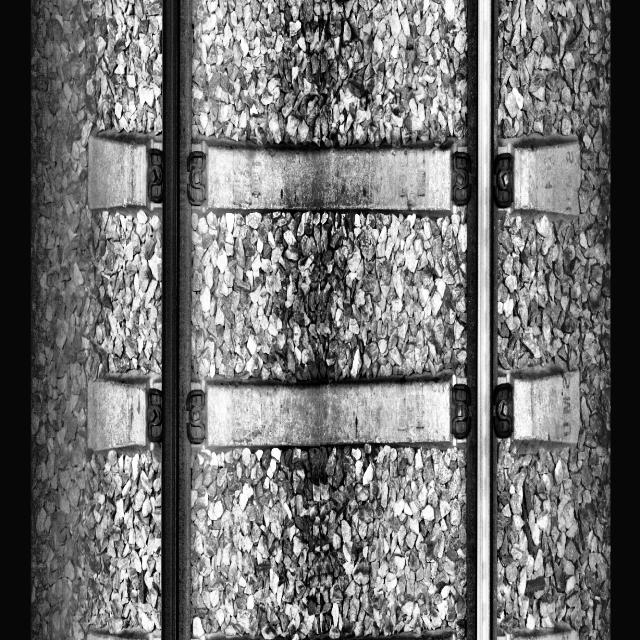Clips: (491, 378, 514, 445), (139, 148, 165, 206), (450, 144, 473, 208), (452, 378, 473, 442), (186, 385, 208, 445), (495, 149, 515, 214), (146, 382, 164, 446), (188, 144, 206, 207)
Sleepers: (86, 129, 583, 222), (86, 369, 584, 448)
